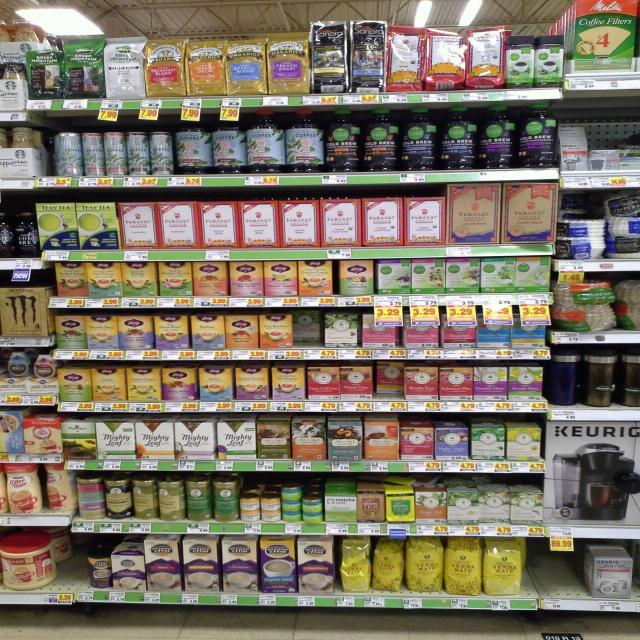void: (531, 538, 561, 610), (52, 532, 77, 610), (562, 544, 588, 608), (0, 198, 10, 274)
